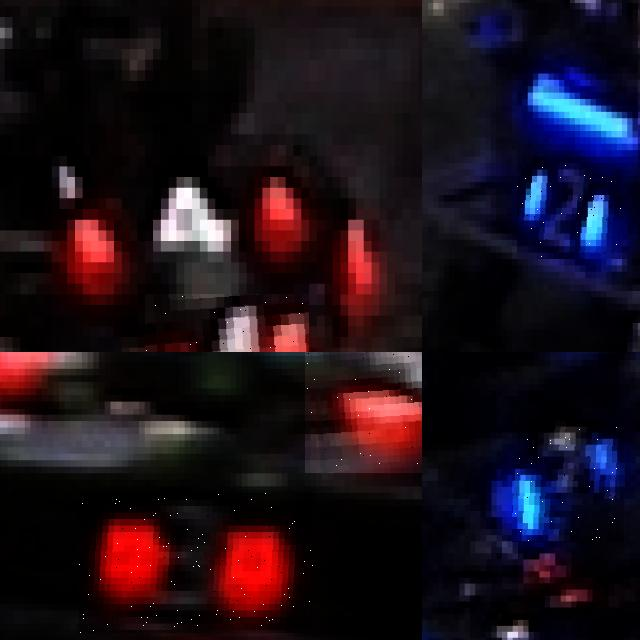B2: (517, 157, 622, 259)
B3: (512, 420, 624, 542)
R3: (79, 490, 313, 633), (304, 352, 422, 473)
R4: (145, 294, 309, 352)
